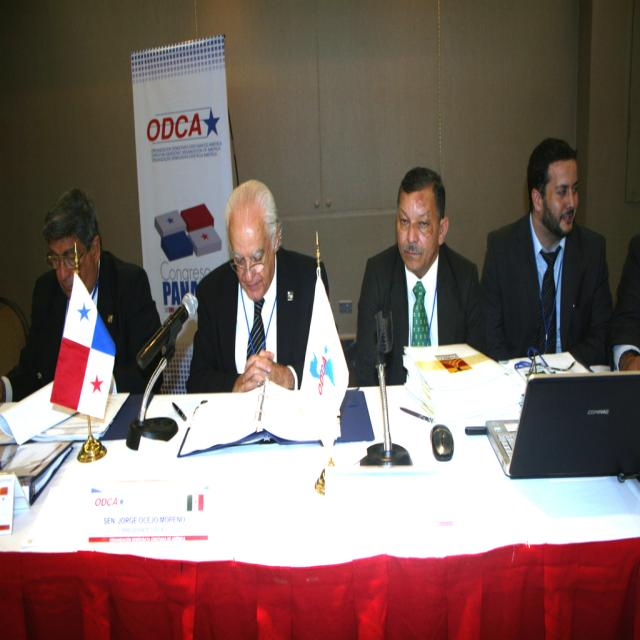no_helmet: (25, 224, 108, 293), (210, 223, 290, 289), (389, 213, 459, 270), (524, 192, 582, 250)
